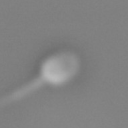normal: (1, 76, 42, 113)
